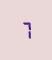seven: (19, 20, 31, 39)
